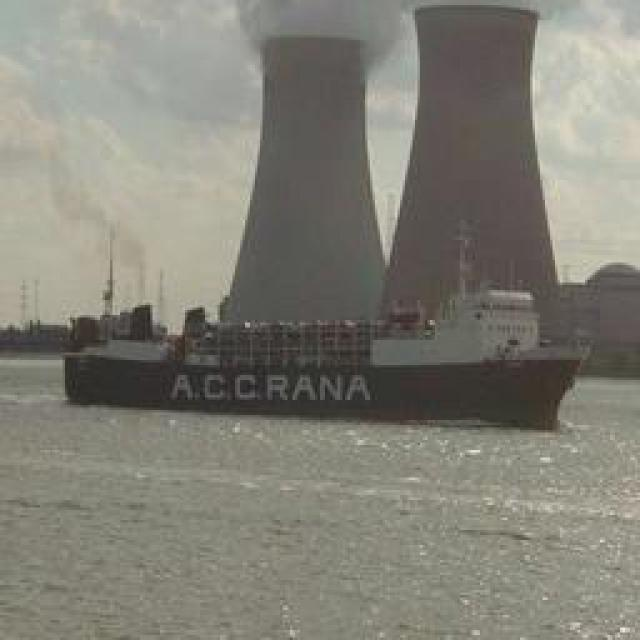Ship: (61, 305, 589, 423)
